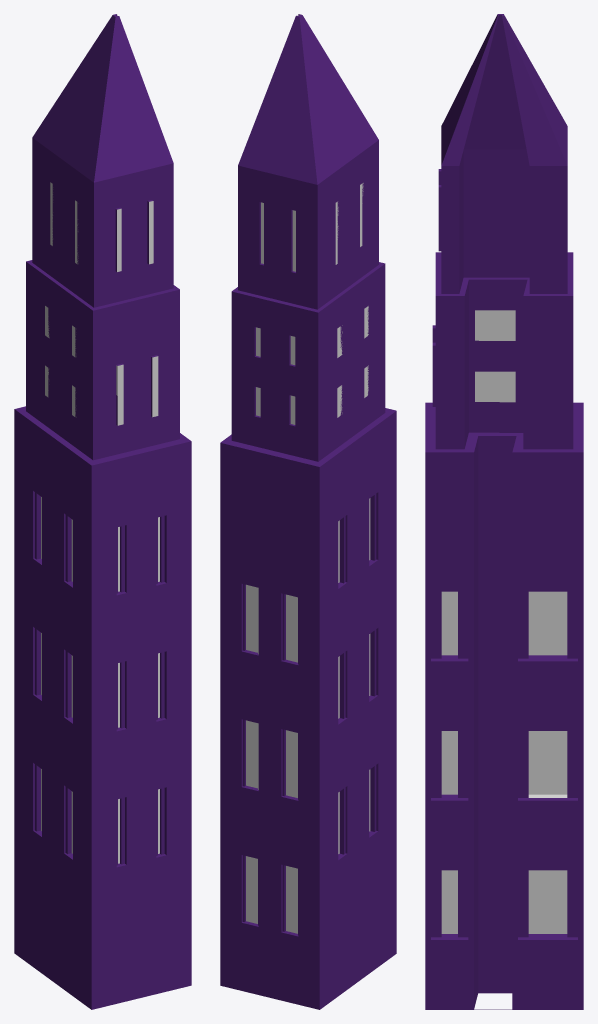
File: st_clement_street_2.fbx
3 views of the same model, side by side, from view 1: azimuth 30°, elevation 25°; view 2: azimuth 150°, elevation 25°; view 3: azimuth 270°, elevation 25° (orthographic). The views are drawn at different scales.
Visible parts, largest first — view 1: Cube; view 2: Cube; view 3: Cube.
Boxes of the visible parts, left/top/right/bottom form: Cube: left=14, top=14, right=191, bottom=1009; Cube: left=220, top=14, right=396, bottom=1009; Cube: left=425, top=14, right=583, bottom=1009.
Size of the model in its own units: 137 by 1251 by 184.
